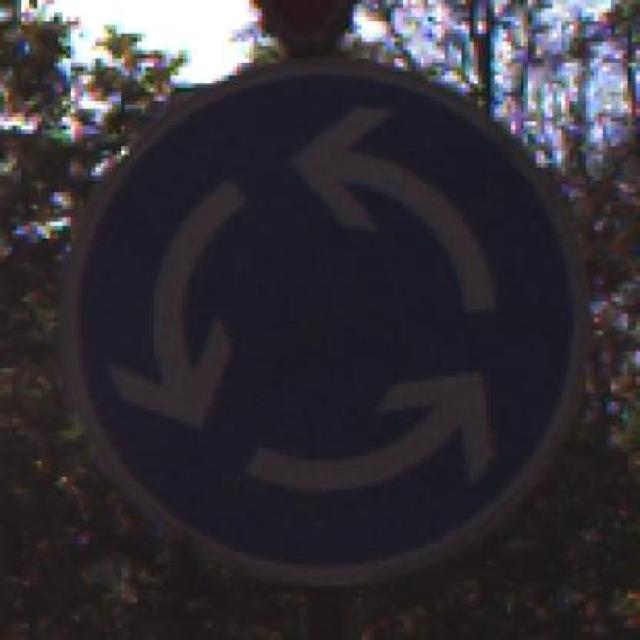Round-About: (33, 37, 612, 611)
